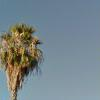Palm tree: (2, 10, 44, 99)
